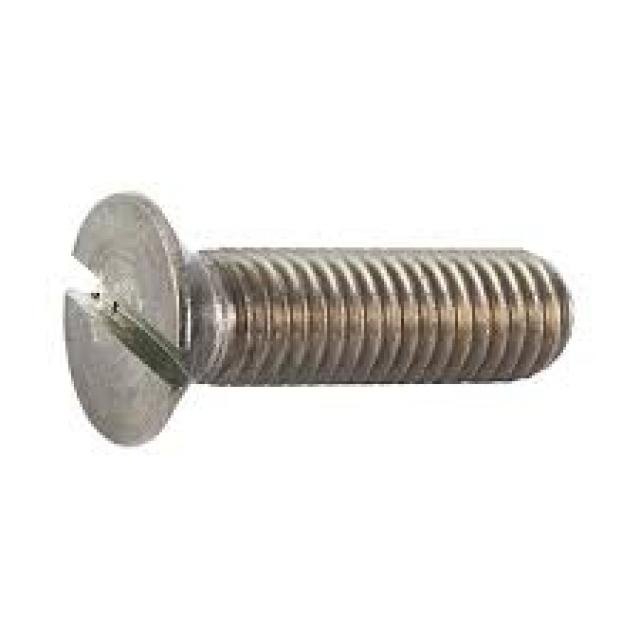Screw: (60, 191, 575, 449)
